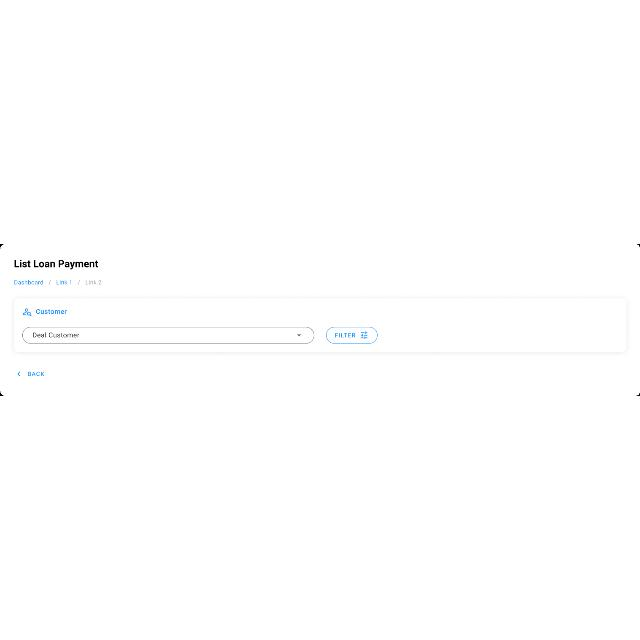QLabel: (13, 256, 103, 270), (35, 310, 69, 316), (332, 331, 356, 339), (28, 372, 44, 378)
VBreadcrumbs: (12, 278, 108, 288)
VBtn: (328, 326, 378, 344)
VCard: (14, 297, 626, 353)
VCombobox: (22, 327, 314, 345)
VIcon: (21, 308, 33, 320), (359, 332, 369, 340), (16, 372, 22, 378)
